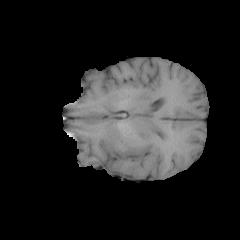glioma: (99, 127, 152, 171)
